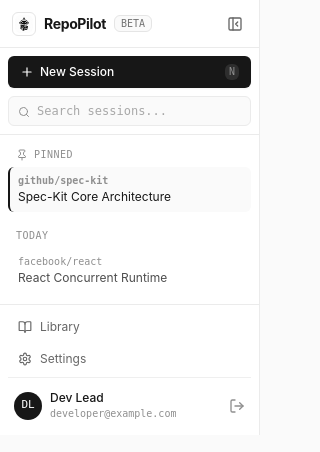
Test case: App Shell Components - Module 9 › Sidebar › filters sessions via search input
Type "Spec-Kit" into the field with placeholder "Search sessions..." at (130, 111), box 8,96 -> 251,126
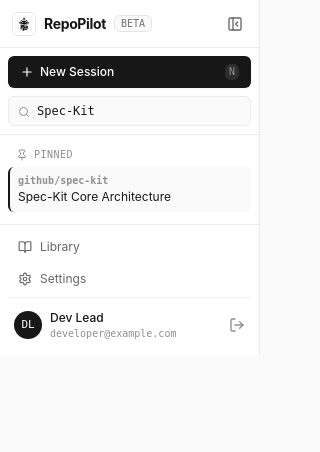
Expected: the text "Spec-Kit Core Architecture" is shown, 18,189 -> 171,204
Expected: the text "React Concurrent Runtime" is gone
